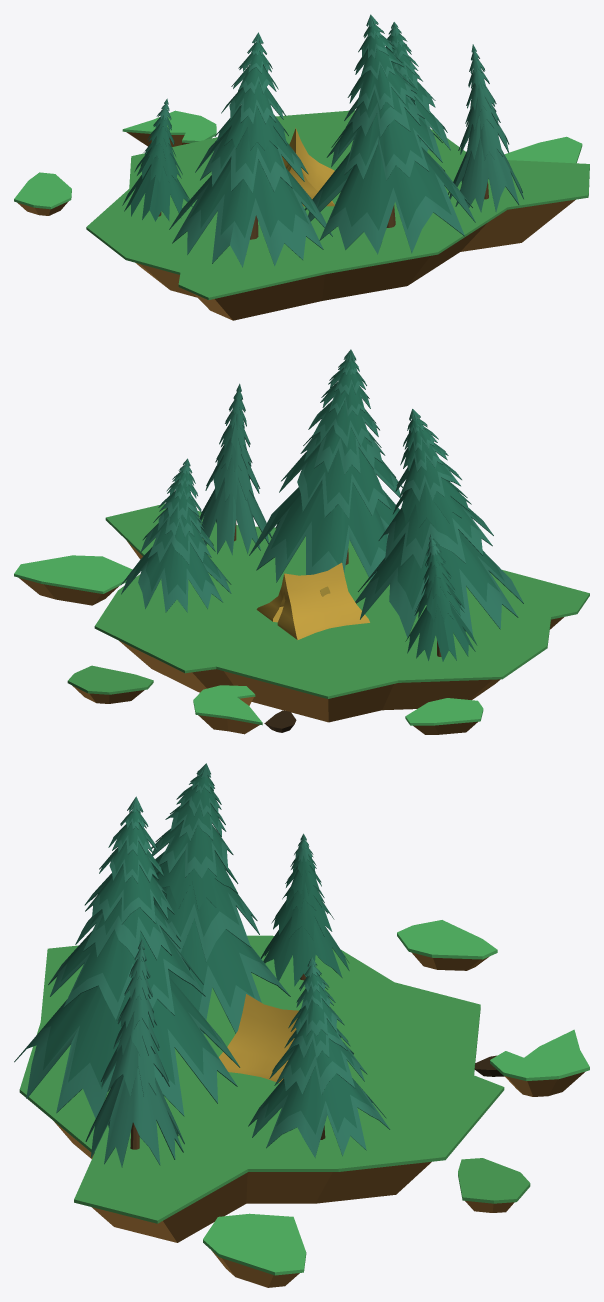
The model's file is Island.fbx.
The picture shows the model from 3 angles, top to bottom: view 1: azimuth 30°, elevation 25°; view 2: azimuth 150°, elevation 25°; view 3: azimuth 270°, elevation 25°; orthographic projection. The views are drawn at different scales.
Parts seen in each view (by area): view 1: Forest; view 2: Forest; view 3: Forest.
Part boxes in pixels (x1,y1,x2,y2): Forest: (14, 14, 589, 320); Forest: (14, 349, 589, 734); Forest: (14, 763, 589, 1287).
Bounding box in the file's own units: 739 × 363 × 554.
